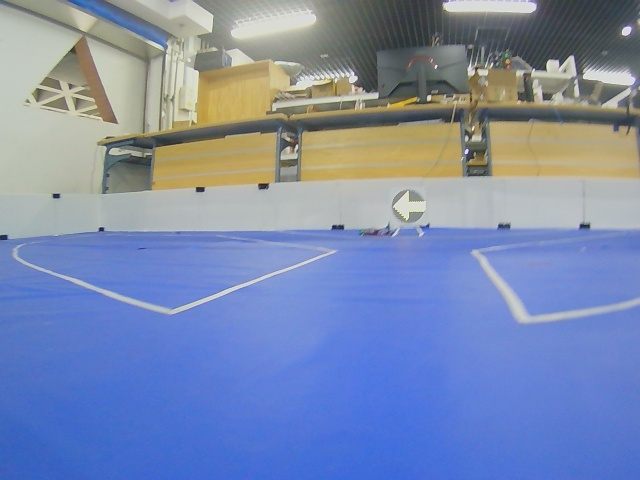left_yellow: (392, 190, 426, 222)
